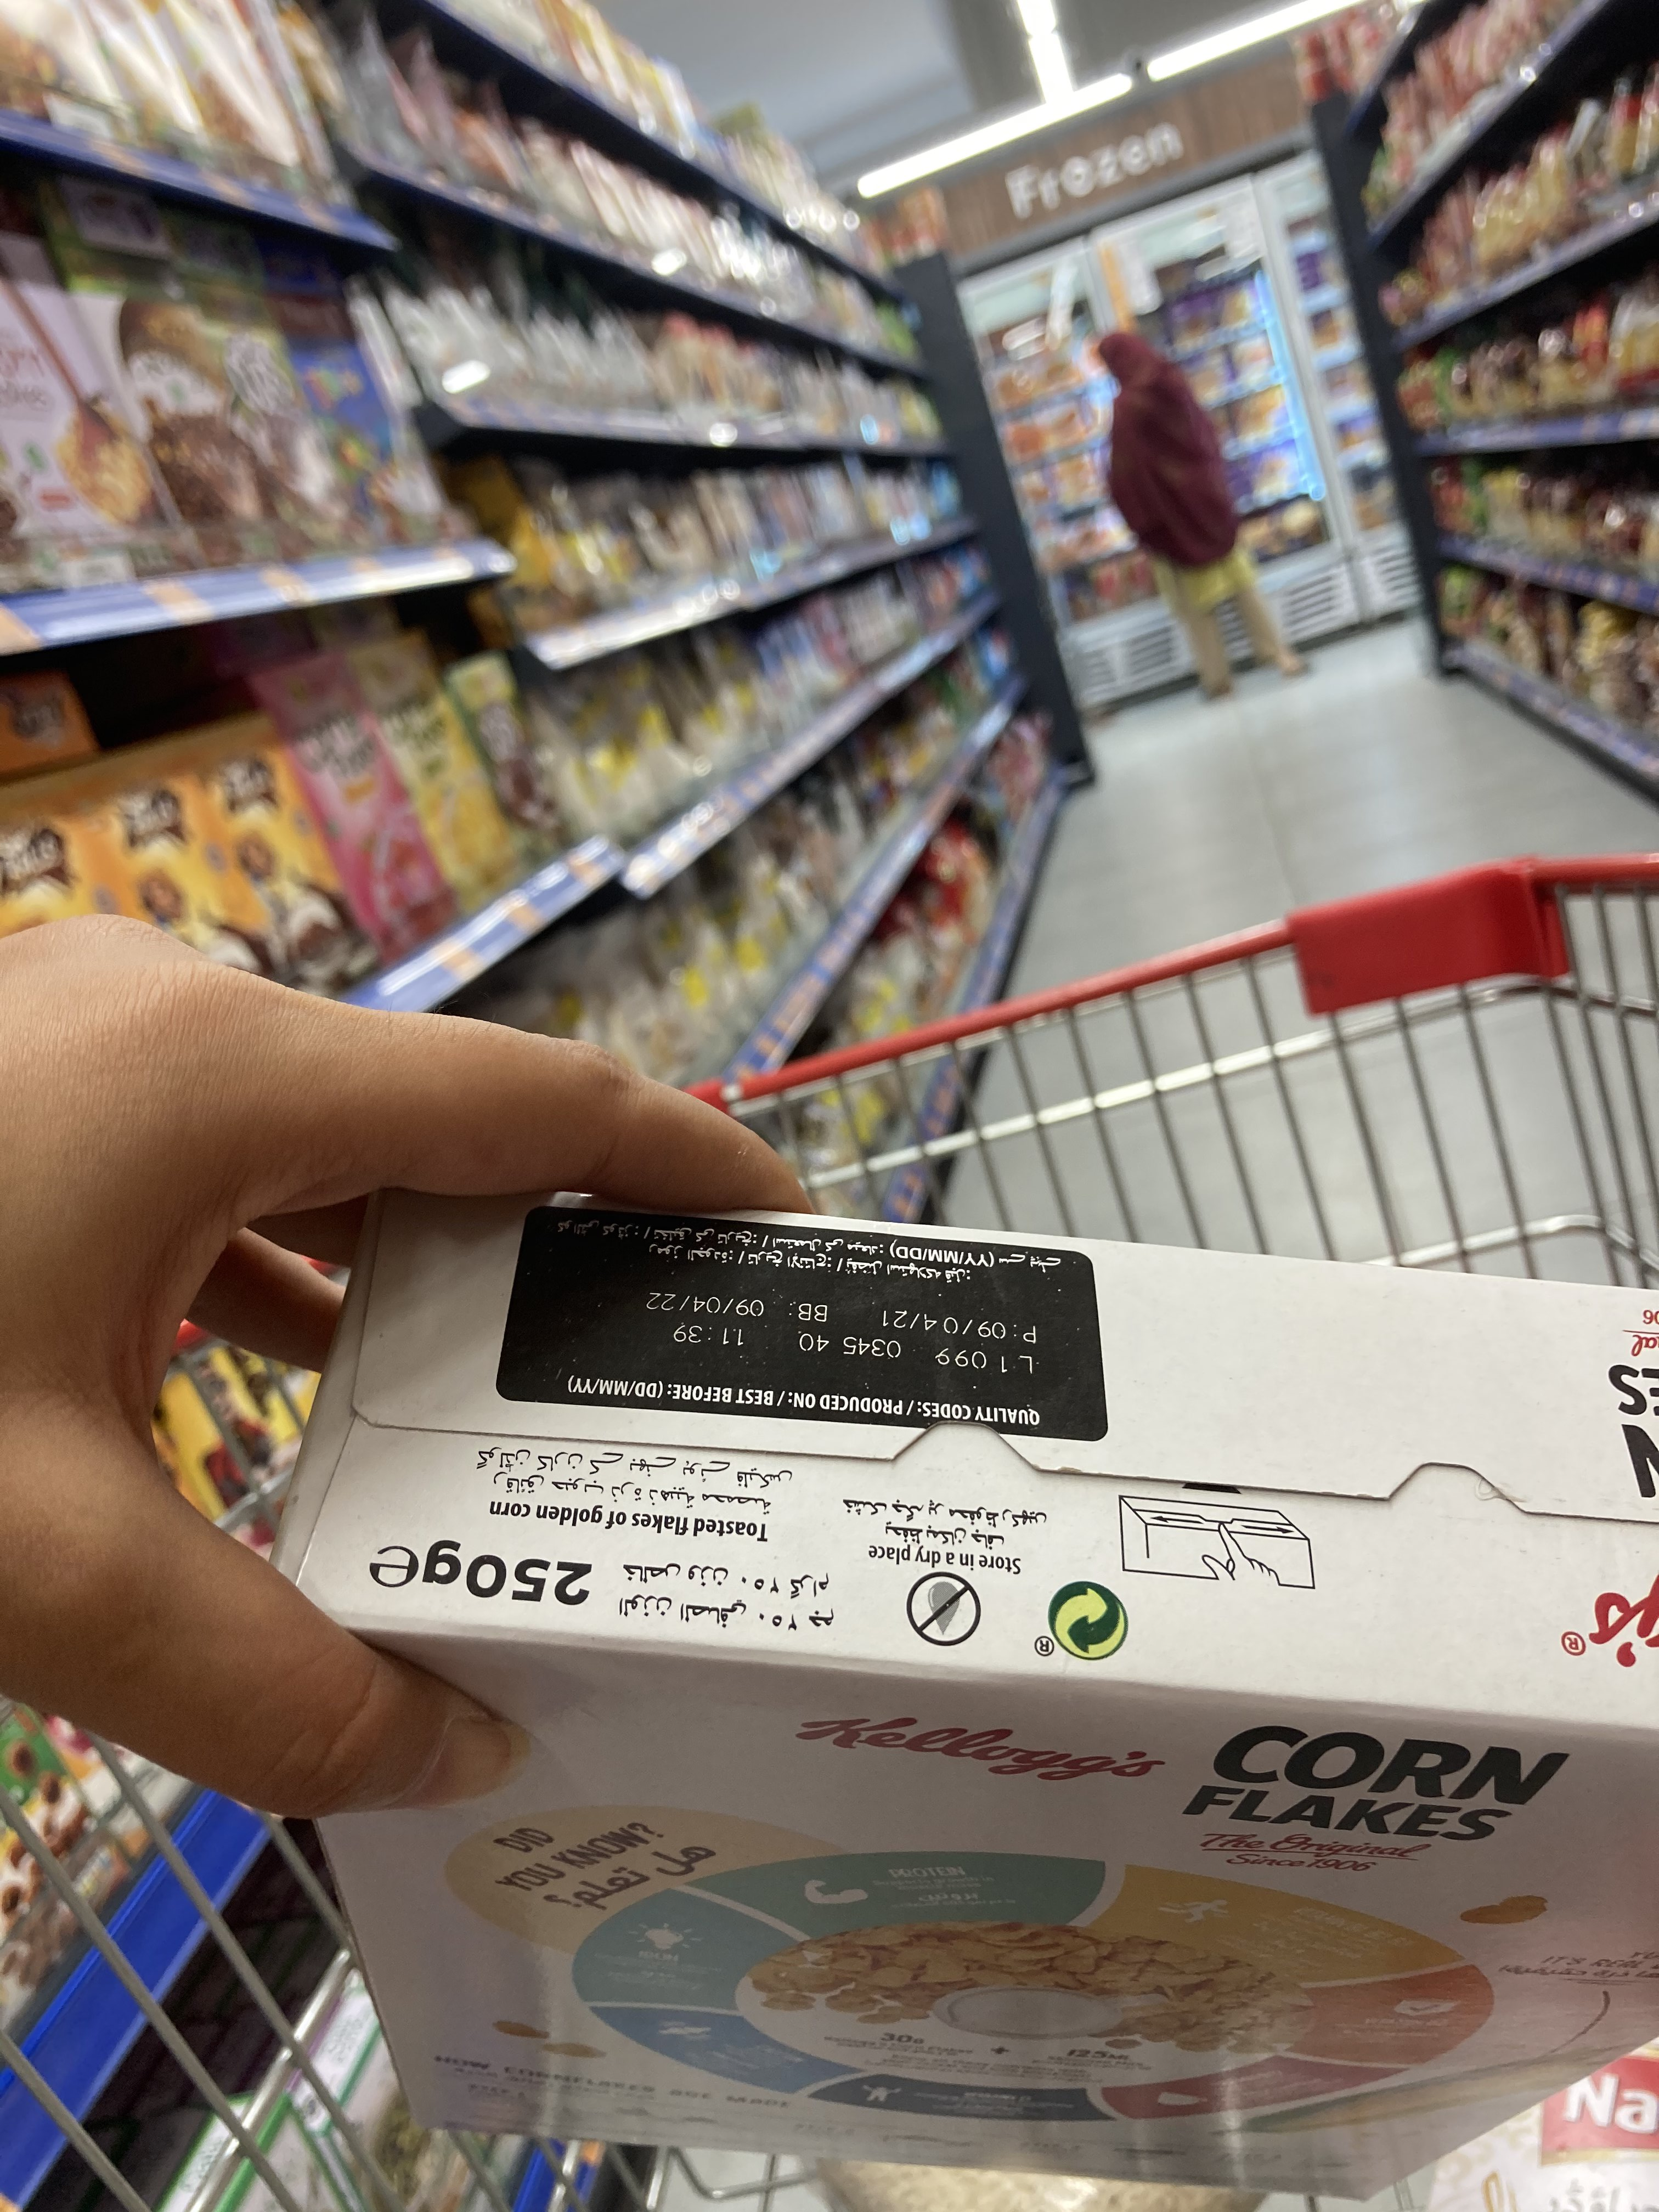Kellogg's Corn Flakes: (234, 1160, 1659, 2203)
